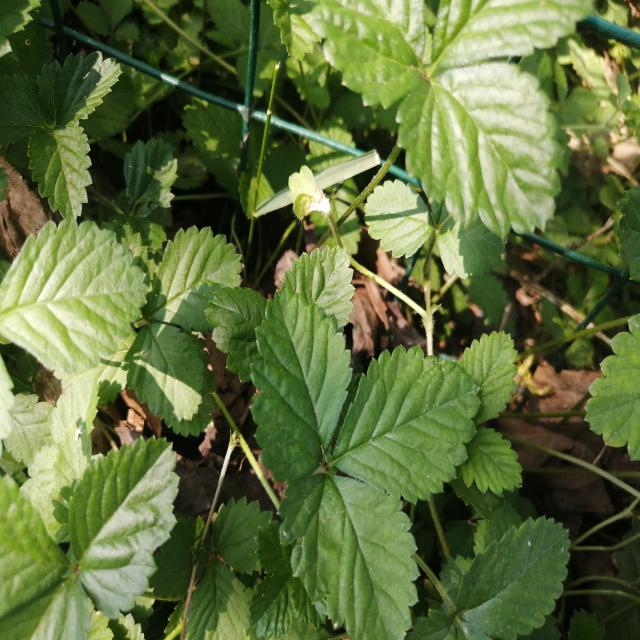Mock_strawberry: (234, 286, 471, 616)
